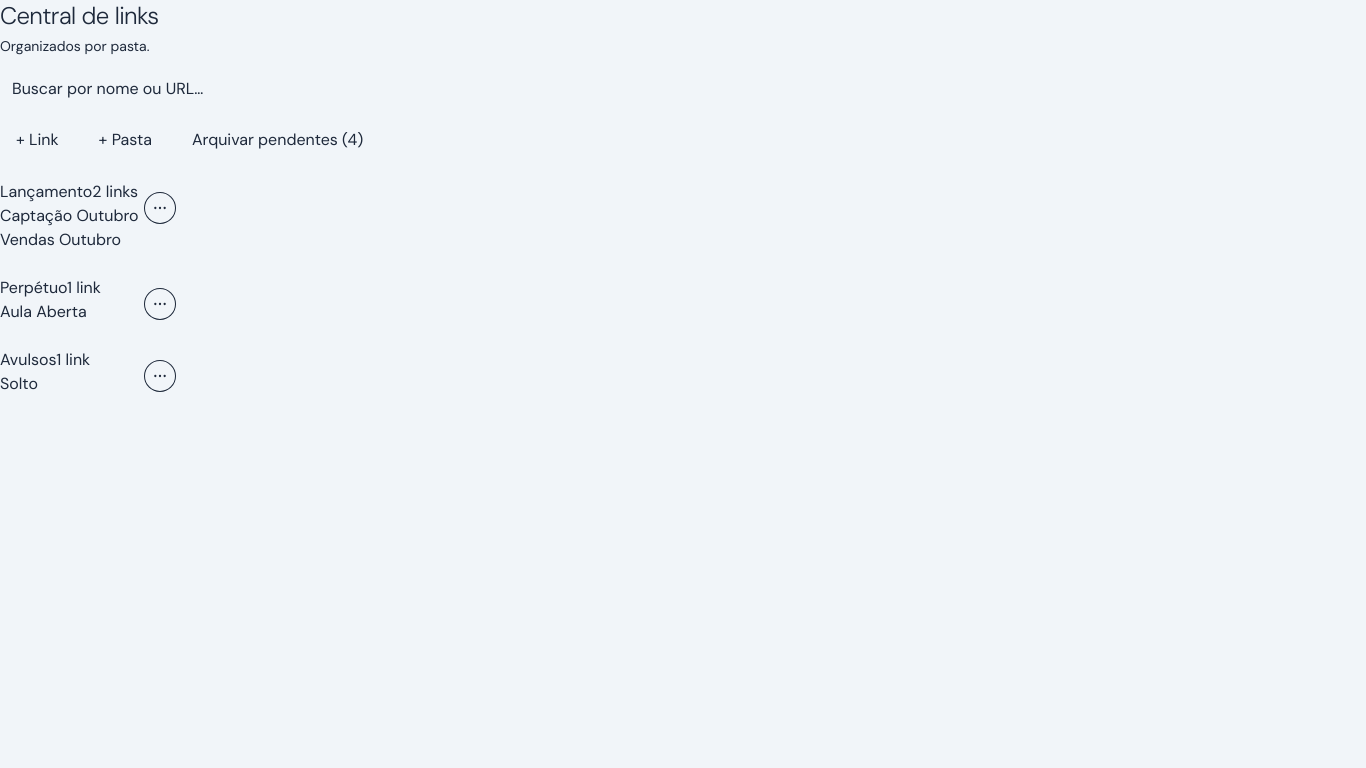
Test: Central de links: escrita (admin) › erro ao renomear fica no diálogo, que continua aberto
Expected: the element named "Pastas" is shown, [0, 180, 176, 396]
Click the button named "Opções da pasta Avulsos": [160, 376] box [144, 360, 176, 392]
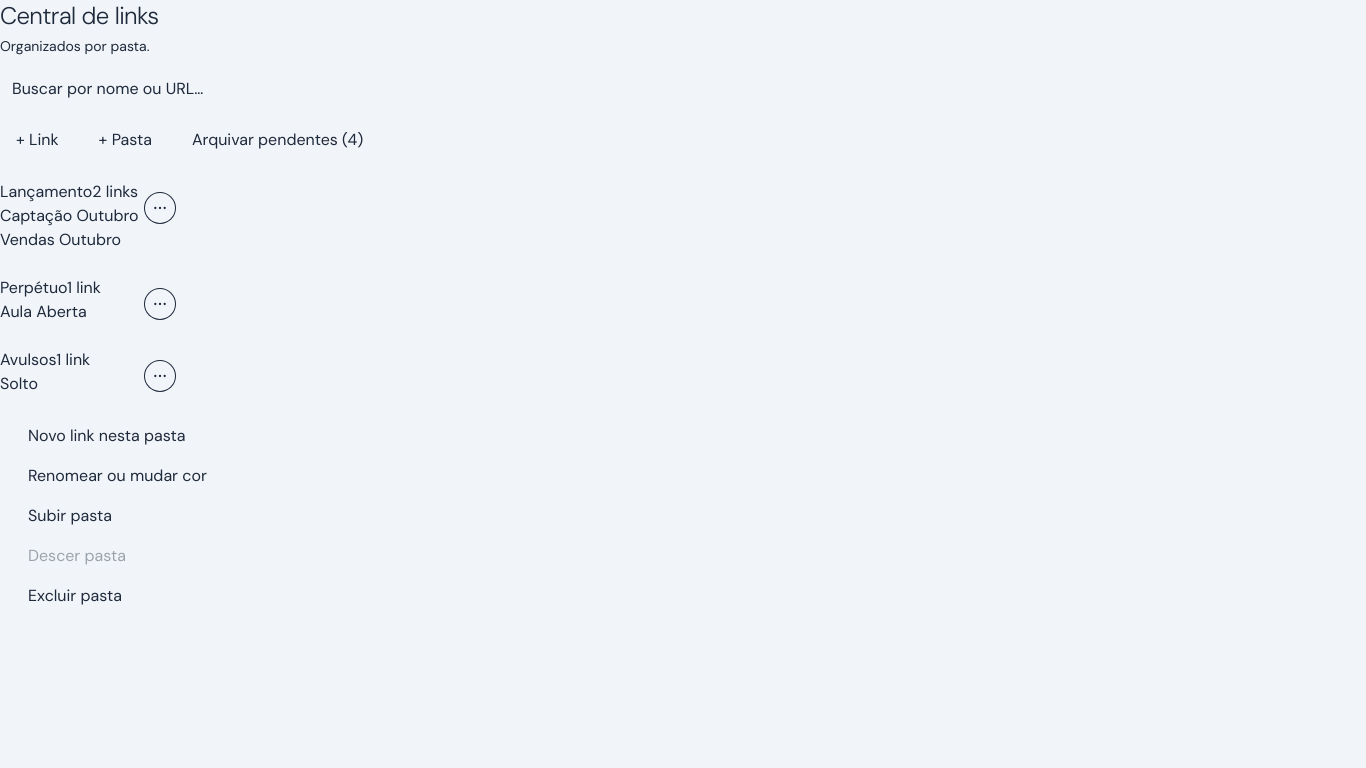
Click the button "Renomear ou mudar cor": [144, 476] box [16, 456, 272, 496]
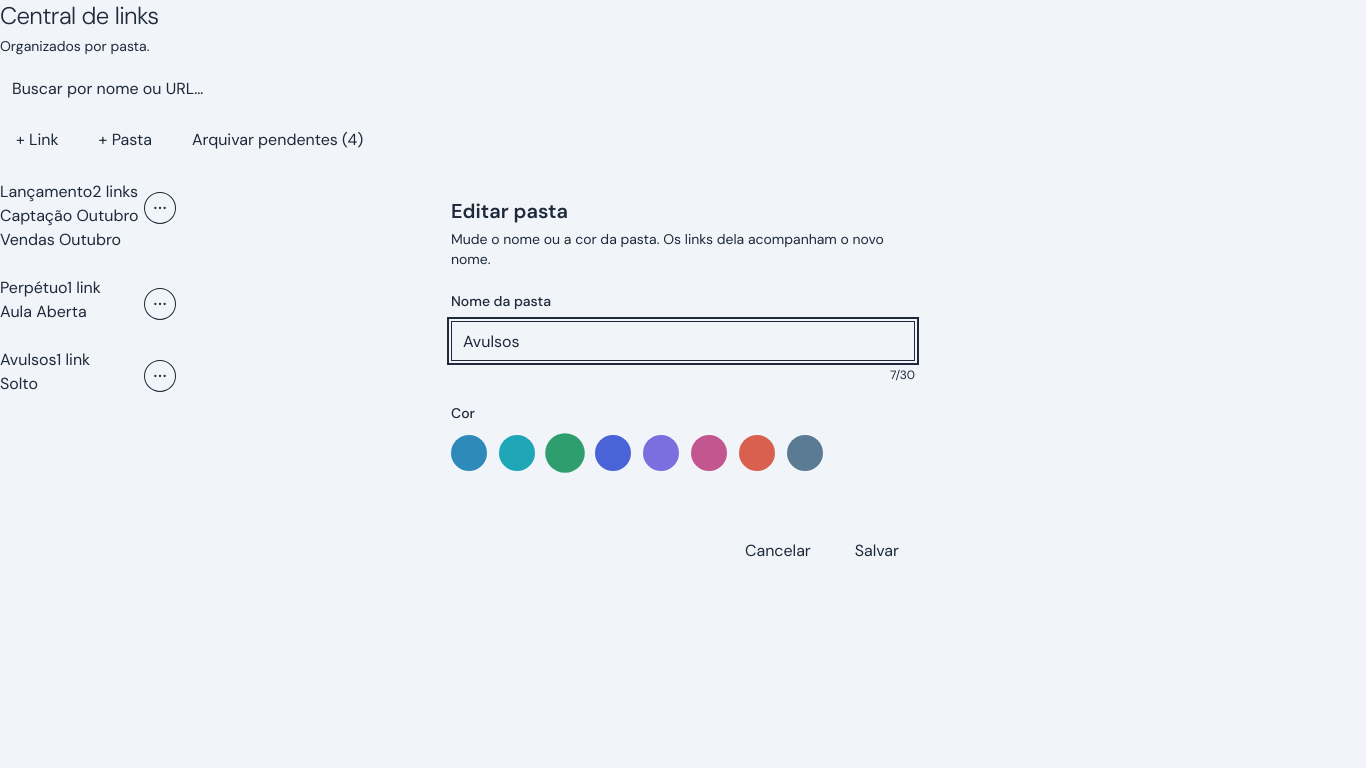
Replace the text in the field labelled "Nome da pasta" with "Diversos": [683, 341] box [451, 321, 915, 361]
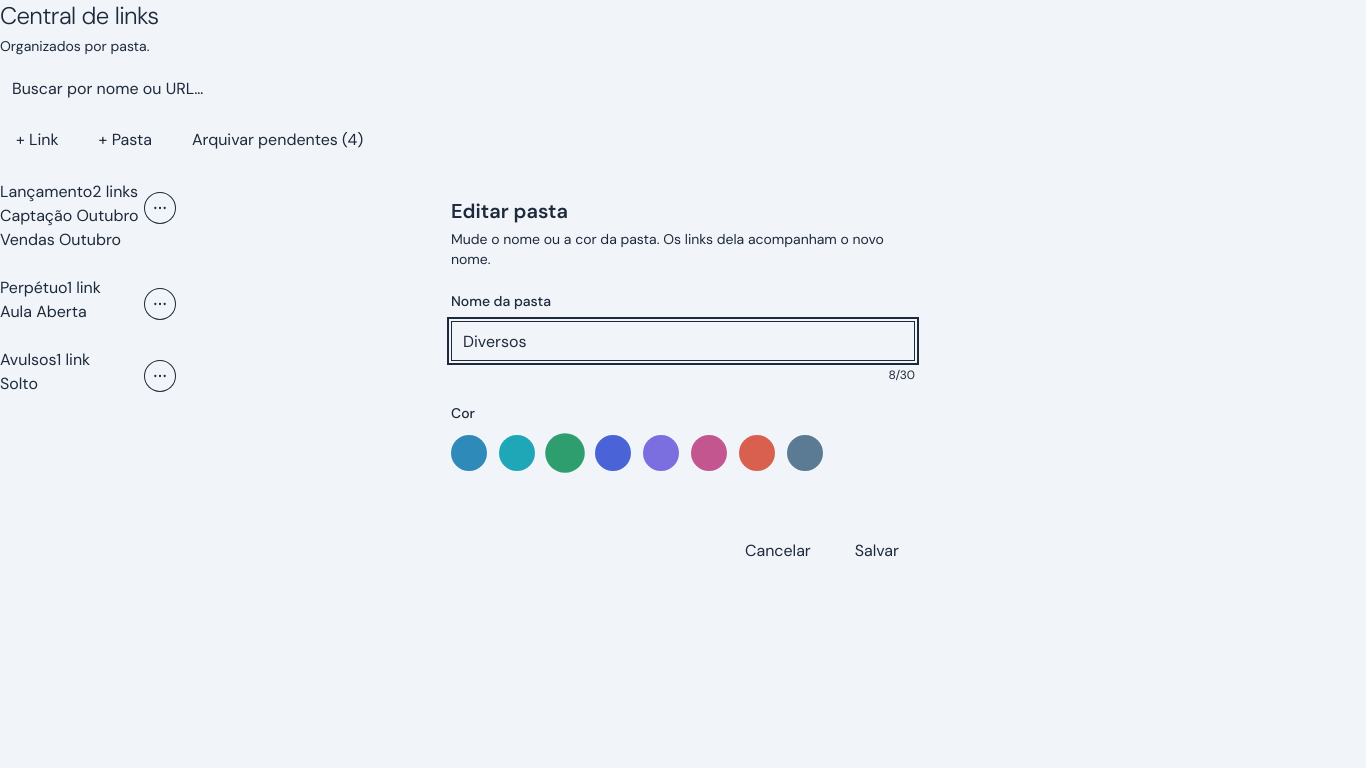
Click the button "Salvar": [877, 551] box [839, 531, 915, 571]
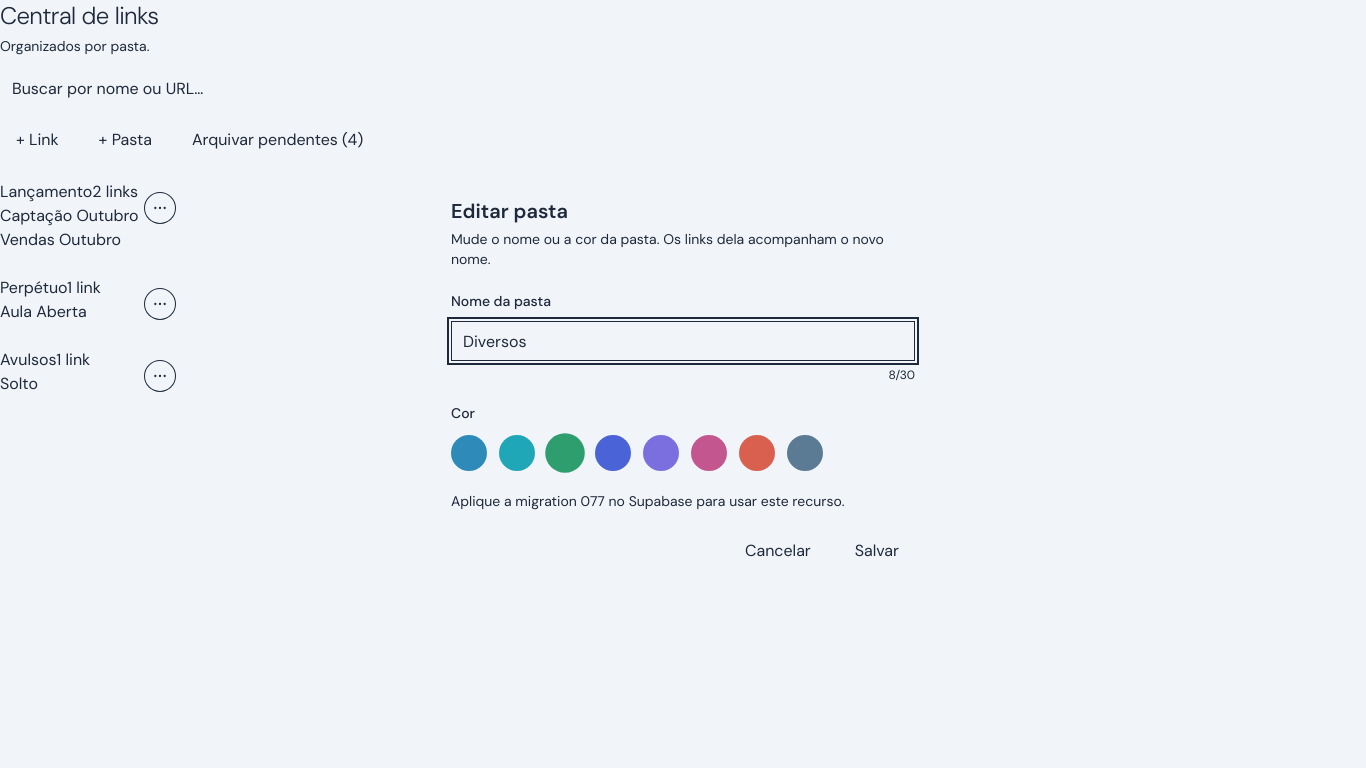
Expected: the dialog is shown, [427, 173, 939, 595]
Expected: the message shows "migration 077", [451, 492, 844, 510]
